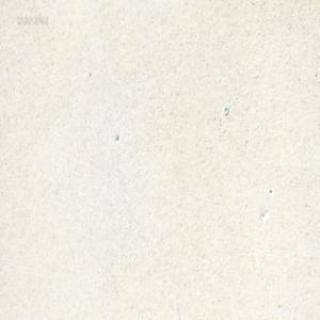Washertrack_idkeyframe: (222, 104, 228, 115)
